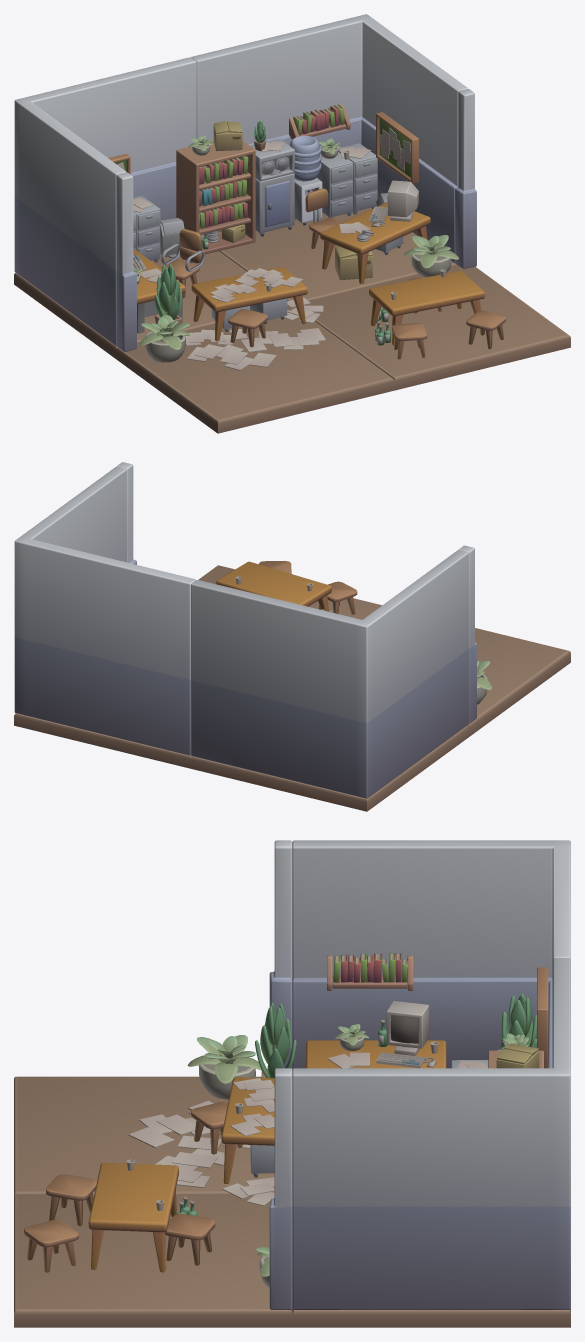
File: grace_hopper_analogy.glb
3 views of the same model, one above another, from view 1: azimuth 30°, elevation 25°; view 2: azimuth 150°, elevation 25°; view 3: azimuth 270°, elevation 25° (orthographic). The views are drawn at different scales.
Parts seen in each view (by area): view 1: wall-angle.002, wall-angle.001, wall-angle-2.007, wall-angle-2.003, box.005, table.003, Cube.001, table.002, table.007, box.012, box.014, plant.005 (+22 smaller); view 2: wall-angle.002, wall-angle.001, wall-angle-2.007, table.003, wall-angle-2.003, chair.006; view 3: wall-angle.001, wall-angle.002, wall-angle-2.003, wall-angle-2.007, table.003, plant.005, computer.001, table.006, table.007, plant.003, many-papers.006, chair.007 (+12 smaller).
Part boxes in pixels (bbox=[...]): wall-angle.002: bbox=[14, 57, 287, 358]; wall-angle.001: bbox=[191, 14, 468, 300]; wall-angle-2.007: bbox=[116, 172, 394, 433]; wall-angle-2.003: bbox=[295, 89, 570, 390]; box.005: bbox=[176, 141, 255, 254]; table.003: bbox=[369, 270, 484, 345]; Cube.001: bbox=[250, 139, 294, 236]; table.002: bbox=[320, 202, 430, 283]; table.007: bbox=[191, 266, 307, 341]; box.012: bbox=[290, 135, 322, 225]; box.014: bbox=[316, 152, 353, 217]; plant.005: bbox=[139, 314, 190, 362]; wall-angle.002: bbox=[190, 550, 468, 811]; wall-angle.001: bbox=[14, 467, 195, 768]; wall-angle-2.007: bbox=[458, 545, 570, 736]; table.003: bbox=[216, 561, 331, 611]; wall-angle-2.003: bbox=[116, 462, 381, 619]; chair.006: bbox=[318, 581, 357, 614]; wall-angle.001: bbox=[292, 958, 570, 1327]; wall-angle.002: bbox=[292, 840, 570, 1069]; wall-angle-2.003: bbox=[14, 1068, 292, 1327]; wall-angle-2.007: bbox=[14, 840, 292, 1195]; table.003: bbox=[88, 1162, 178, 1272]; plant.005: bbox=[187, 1035, 261, 1099]; computer.001: bbox=[376, 1001, 436, 1068]; table.006: bbox=[306, 1040, 446, 1068]; table.007: bbox=[221, 1077, 274, 1183]; plant.003: bbox=[255, 1003, 296, 1078]; many-papers.006: bbox=[155, 1135, 234, 1187]; chair.007: bbox=[24, 1219, 78, 1272].
Size of the model in its own units: 20 by 10.01 by 20.
